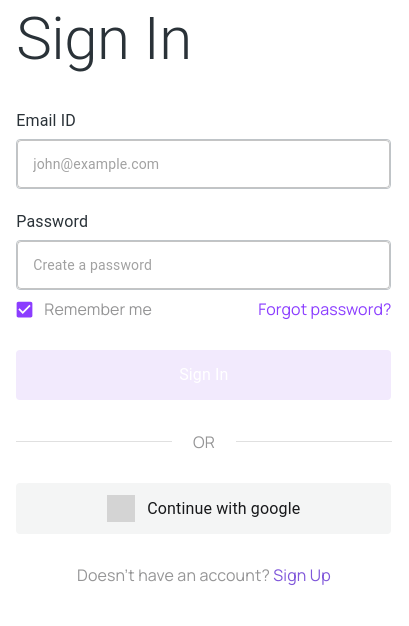
Signin component testcases › Entering password field incorrectly
Type "Saicharan" into the password field with placeholder "Create a password". click: x=204, y=265
box: [17,241,390,289]
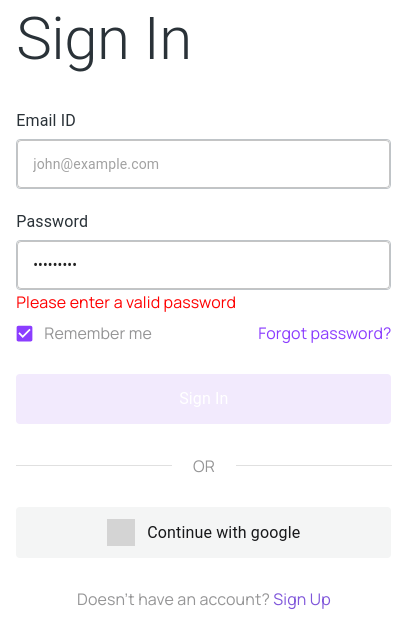
Check: the text "Please enter a valid password" is shown, box [16,291,236,313]
